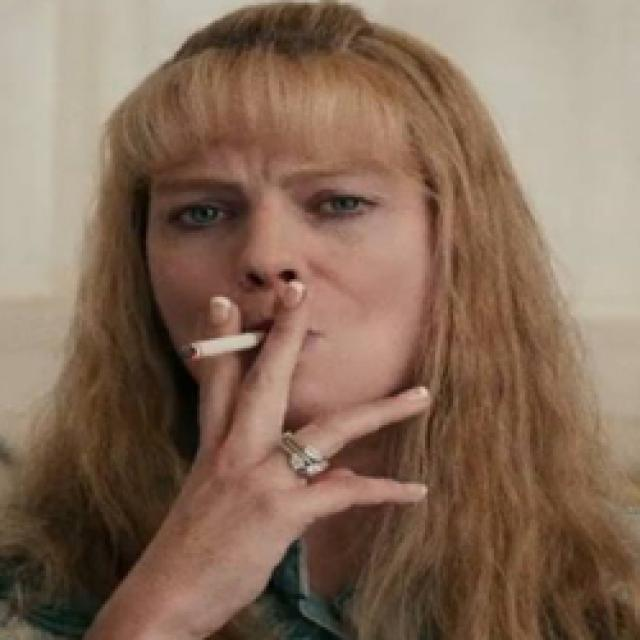Smooking: (167, 313, 265, 371)
